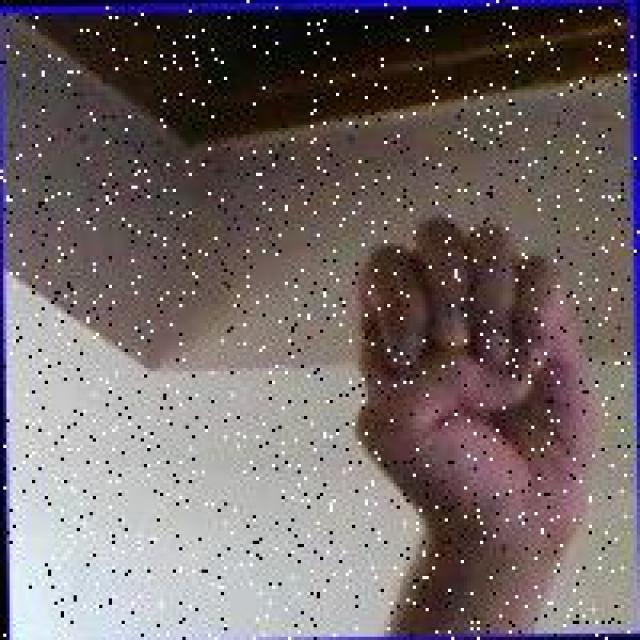E: (338, 207, 610, 588)
